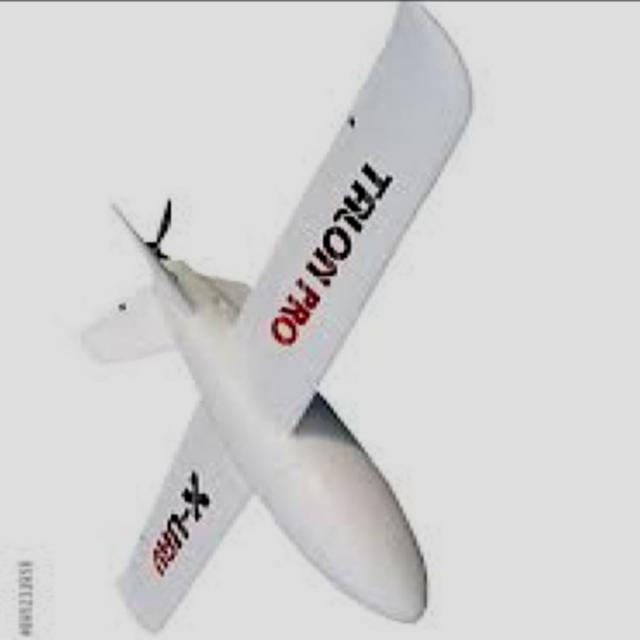plane: (78, 0, 476, 634)
